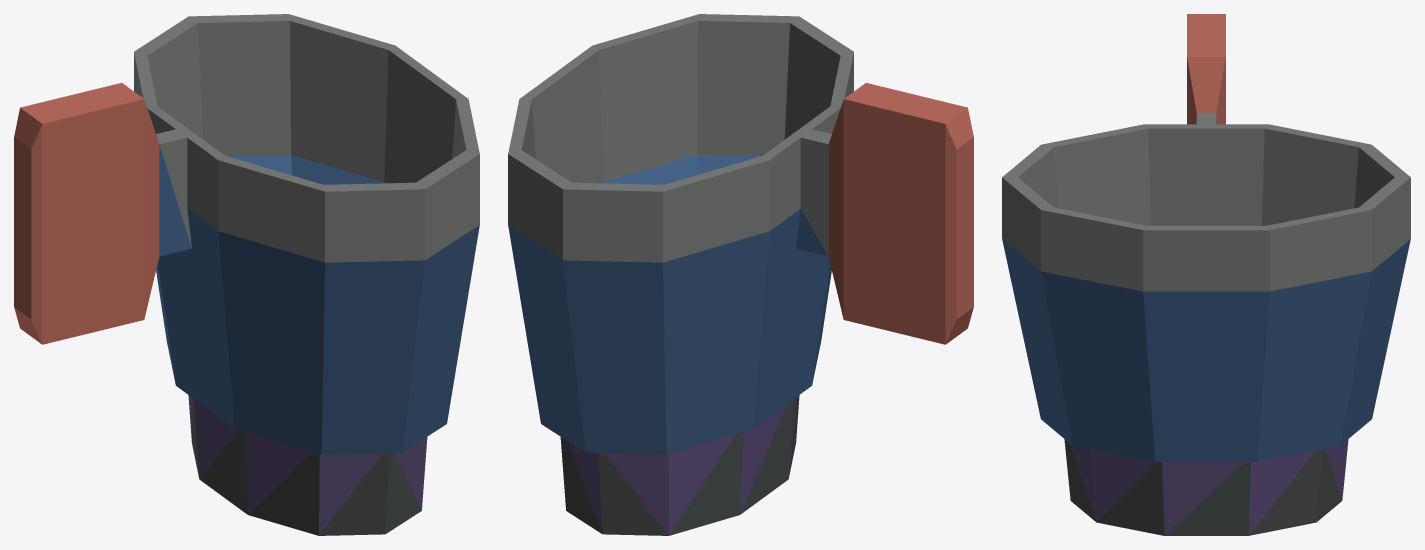
File: frying-pan.glb
The picture shows the model from 3 angles, left to right: view 1: azimuth 30°, elevation 25°; view 2: azimuth 150°, elevation 25°; view 3: azimuth 270°, elevation 25°; orthographic projection. The views are drawn at different scales.
Bounding box in the file's own units: 1 × 1 × 1.
